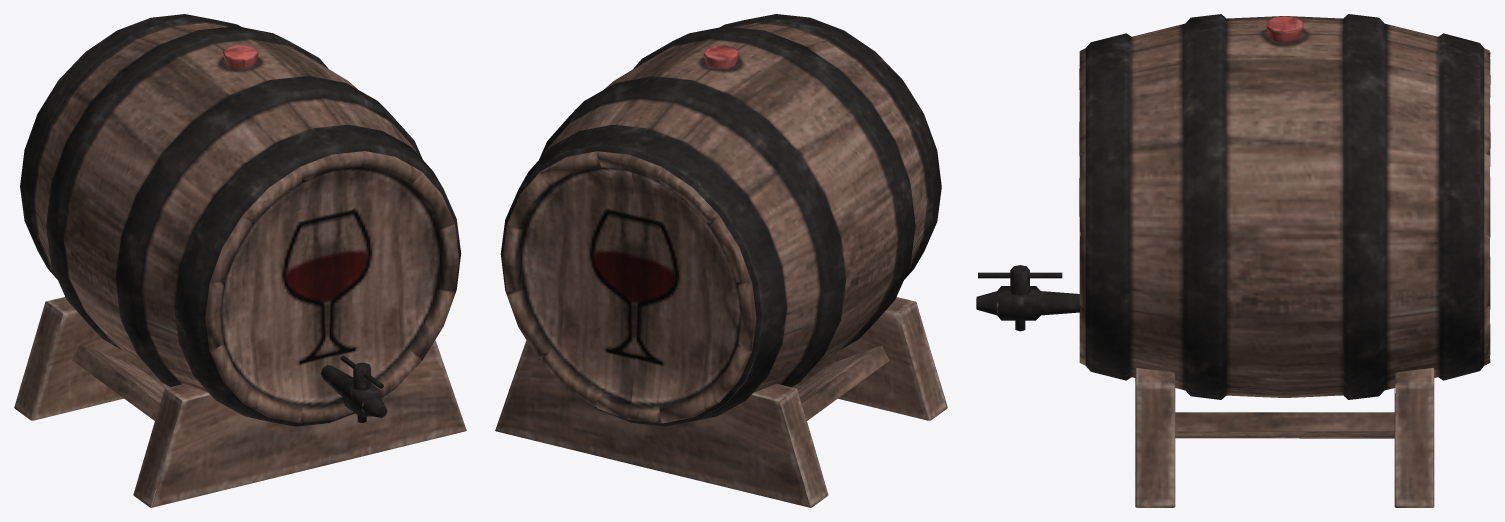
The model's file is BarrelDispenserLarge.fbx.
3 views of the same model, side by side, from view 1: azimuth 30°, elevation 25°; view 2: azimuth 150°, elevation 25°; view 3: azimuth 270°, elevation 25° (orthographic). The views are drawn at different scales.
Visible parts, largest first — view 1: Barrel; view 2: Barrel; view 3: Barrel.
Part boxes in pixels (box(x1,y1,x2,y2)): Barrel: box(14, 14, 466, 507); Barrel: box(495, 14, 947, 507); Barrel: box(976, 14, 1490, 507).
Size of the model in its own units: 0.4133 by 0.4577 by 0.5332.
